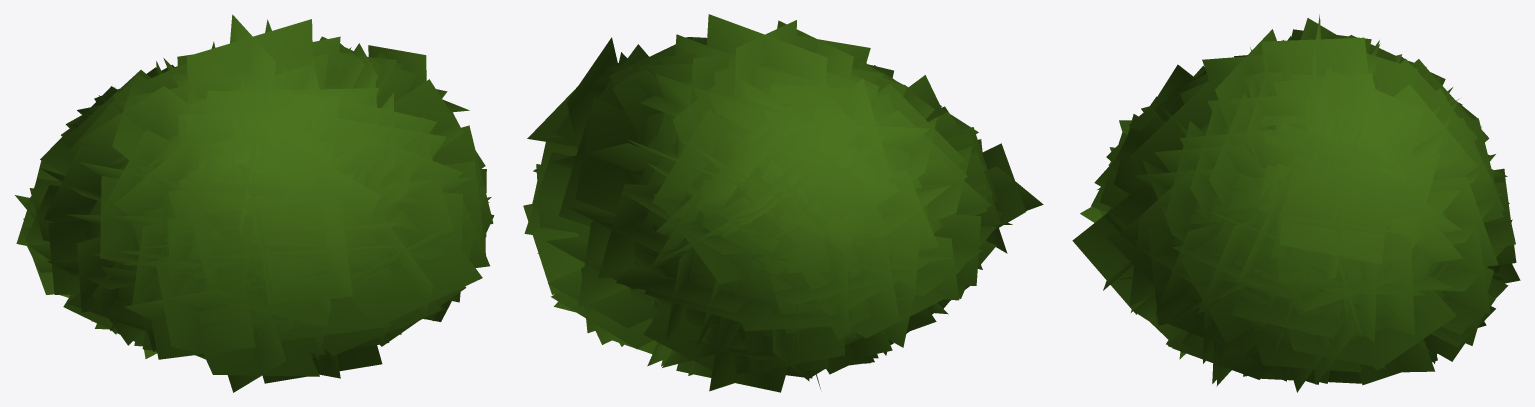
The model's file is SM_bush_01.fbx.
3 renders of one model, left to right at view 1: azimuth 30°, elevation 25°; view 2: azimuth 150°, elevation 25°; view 3: azimuth 270°, elevation 25°, orthographic.
Parts seen in each view (by area): view 1: Object3427936; view 2: Object3427936; view 3: Object3427936.
Part boxes in pixels (x1,y1,x2,y2): Object3427936: (15,14,494,392); Object3427936: (523,14,1043,392); Object3427936: (1072,14,1520,392).
Size of the model in its own units: 94.88 by 69.6 by 90.92.
